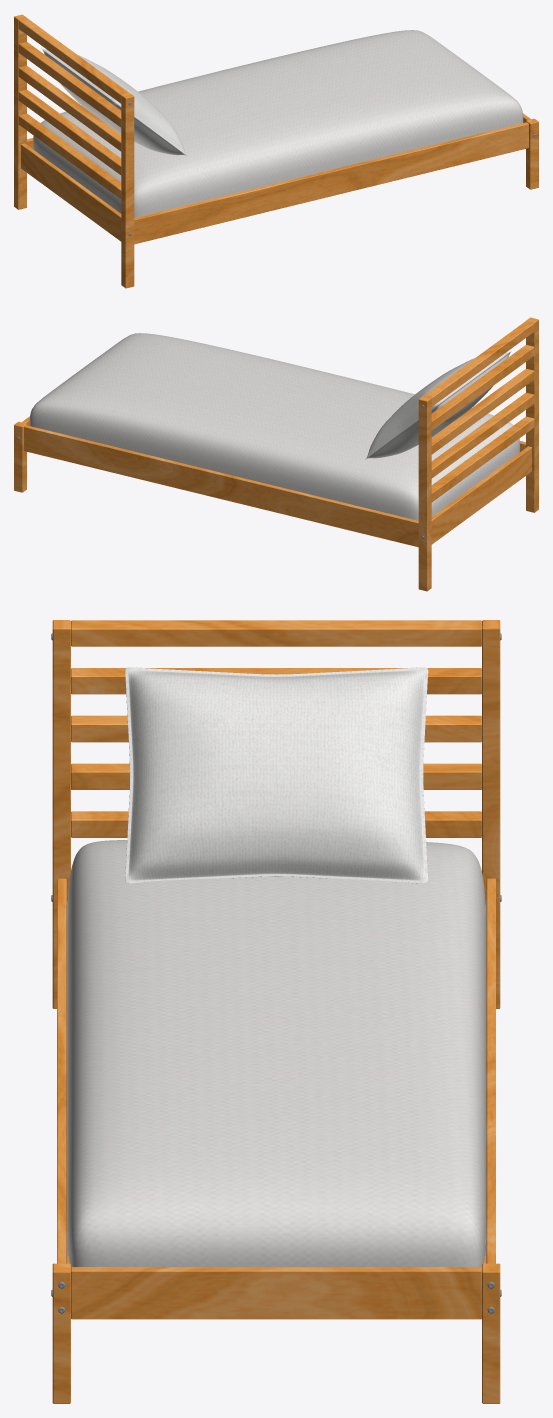
File: sceneDraco.gltf
The picture shows the model from 3 angles, top to bottom: view 1: azimuth 30°, elevation 25°; view 2: azimuth 150°, elevation 25°; view 3: azimuth 270°, elevation 25°; orthographic projection. The views are drawn at different scales.
Visible parts, largest first — view 1: Mattress, Bed Frame, Pillow; view 2: Mattress, Bed Frame, Pillow; view 3: Mattress, Bed Frame, Pillow, Bed Rail.
Part boxes in pixels (x1,y1,x2,y2): Mattress: [33, 30, 523, 217]; Bed Frame: [14, 14, 538, 288]; Pillow: [41, 48, 187, 156]; Mattress: [29, 333, 519, 520]; Bed Frame: [14, 317, 538, 591]; Pillow: [365, 351, 511, 459]; Mattress: [67, 840, 485, 1267]; Bed Frame: [52, 620, 500, 1403]; Pillow: [125, 667, 428, 883]; Bed Rail: [66, 900, 486, 1263].
Size of the model in its own units: 209 by 92 by 98.53.
4 materials, 4 textured.
